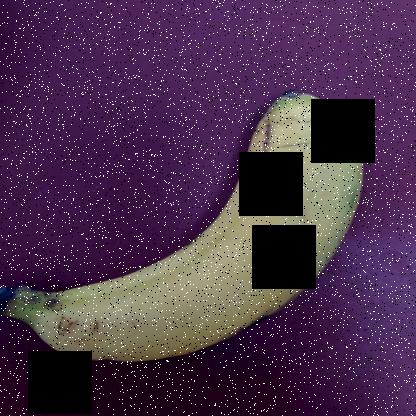freshripe: (0, 80, 392, 401)
